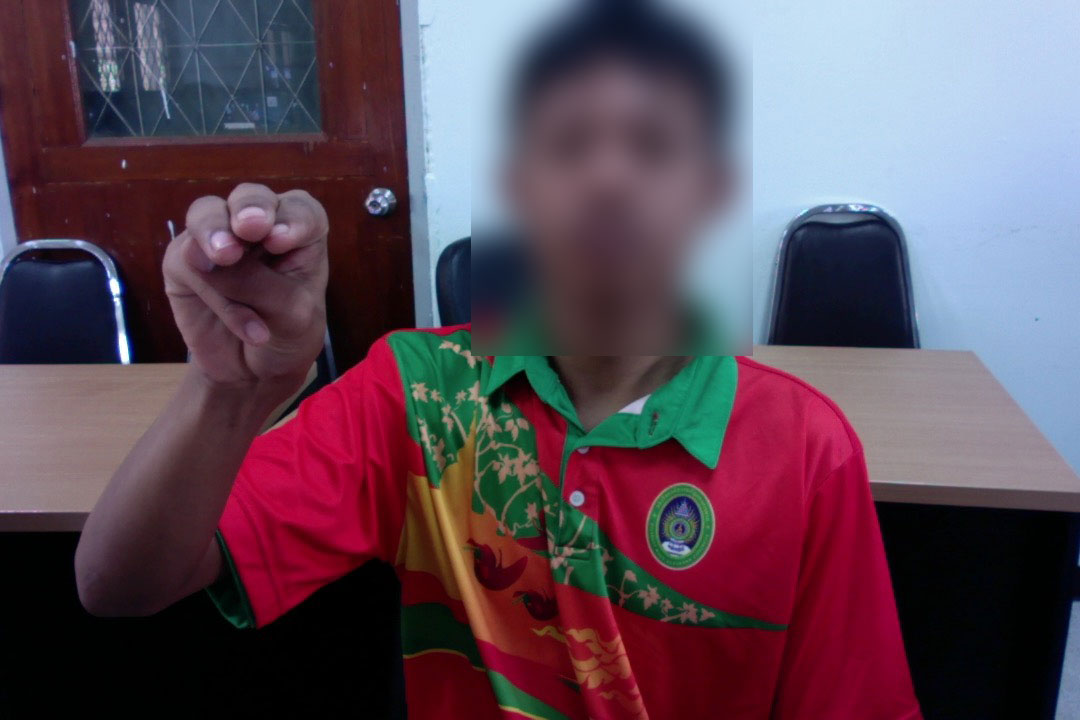mor: (151, 161, 342, 406)
